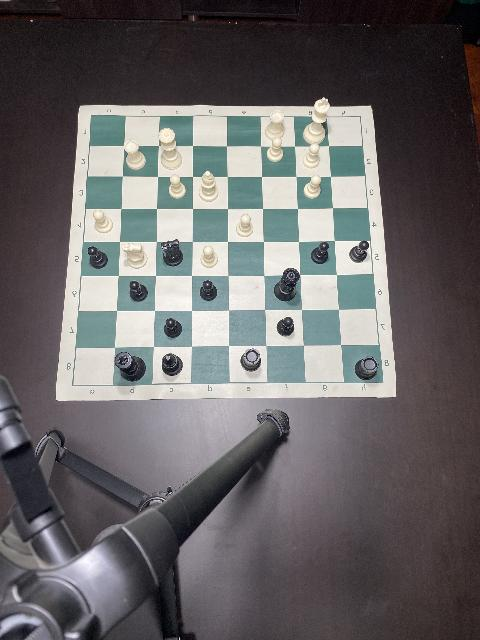black-bishop: (161, 353, 183, 377)
black-king: (114, 351, 146, 381)
black-knight: (161, 240, 183, 266)
black-pawn: (349, 241, 369, 263), (198, 280, 218, 302), (88, 246, 107, 268), (162, 318, 182, 338), (311, 241, 329, 263), (129, 280, 147, 302), (276, 316, 294, 336)
black-queen: (274, 268, 300, 302)
black-rook: (354, 357, 378, 381), (240, 348, 260, 372)
board: (55, 106, 397, 400)
white-bishop: (198, 171, 218, 201)
white-king: (304, 96, 330, 144)
white-knight: (121, 242, 147, 270)
white-pawn: (168, 173, 186, 199), (93, 209, 112, 233), (304, 175, 322, 199), (302, 144, 320, 168), (267, 135, 283, 161), (200, 245, 218, 268), (237, 214, 253, 236)
white-queen: (158, 128, 182, 168)
white-rook: (125, 138, 146, 170), (265, 109, 287, 139)
